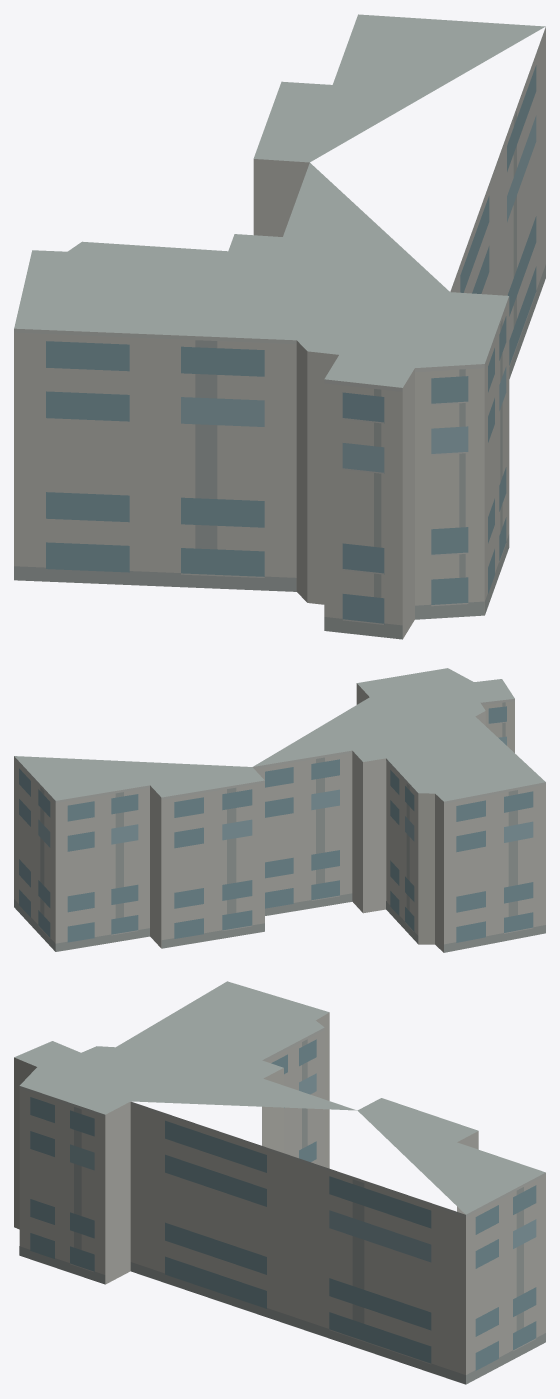
File: residential-2067fde5-58ee-42f8-9abe-8215536df2a5.glb
3 renders of one model, top to bottom at view 1: azimuth 30°, elevation 25°; view 2: azimuth 150°, elevation 25°; view 3: azimuth 270°, elevation 25°, orthographic. The views are drawn at different scales.
Parts seen in each view (by area): view 1: residential-2067fde5-58ee-42f8-9abe-8215536df2a5.tmp; view 2: residential-2067fde5-58ee-42f8-9abe-8215536df2a5.tmp; view 3: residential-2067fde5-58ee-42f8-9abe-8215536df2a5.tmp.
Part boxes in pixels (x1=…): residential-2067fde5-58ee-42f8-9abe-8215536df2a5.tmp: x1=14, y1=14, x2=545, y2=639; residential-2067fde5-58ee-42f8-9abe-8215536df2a5.tmp: x1=14, y1=668, x2=545, y2=952; residential-2067fde5-58ee-42f8-9abe-8215536df2a5.tmp: x1=14, y1=981, x2=545, y2=1384.
Bounding box in the file's own units: 44.95 × 15.25 × 43.28.
